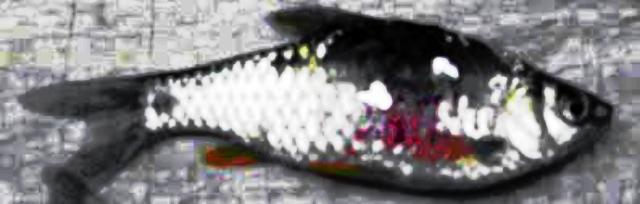Epizootic Ulcerative Syndrome -EUS-: (23, 8, 613, 203), (21, 8, 609, 192)
